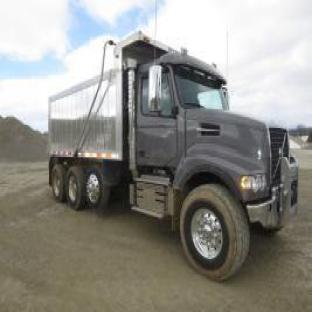Vehicle: (37, 58, 302, 265)
